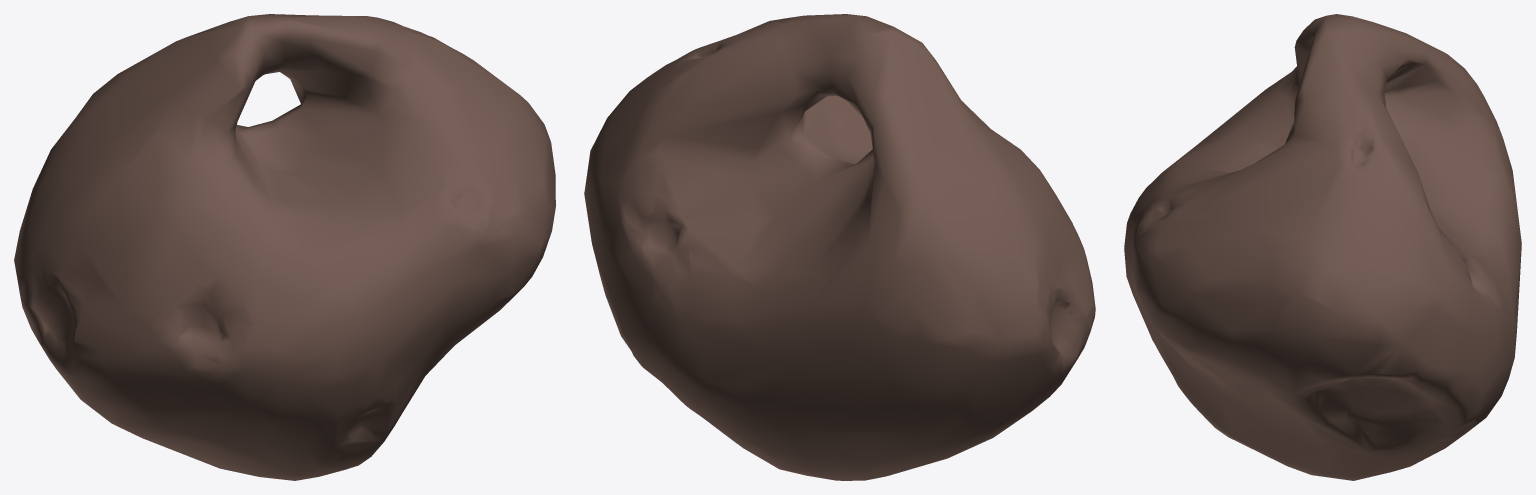
File: SM_Asteroid_Large1.fbx
The picture shows the model from 3 angles, left to right: view 1: azimuth 30°, elevation 25°; view 2: azimuth 150°, elevation 25°; view 3: azimuth 270°, elevation 25°; orthographic projection. The views are drawn at different scales.
Parts seen in each view (by area): view 1: Asteroid_D; view 2: Asteroid_D; view 3: Asteroid_D.
Boxes of the visible parts, x1,y1,x2,y2 form: Asteroid_D: [14, 14, 555, 480]; Asteroid_D: [584, 14, 1095, 480]; Asteroid_D: [1124, 14, 1521, 480].
Bounding box in the file's own units: 147 × 132 × 109.
